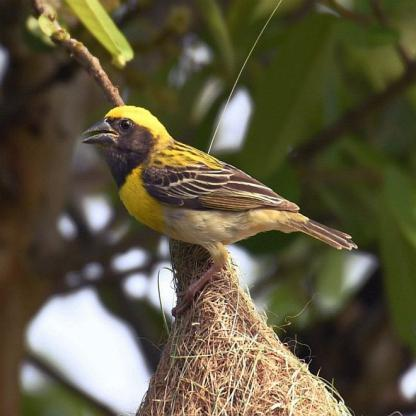Burung: (81, 105, 358, 318)
